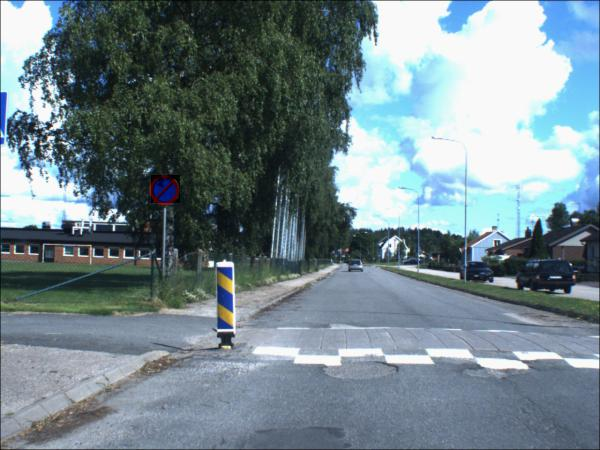NO_PARKING: (151, 176, 181, 205)
